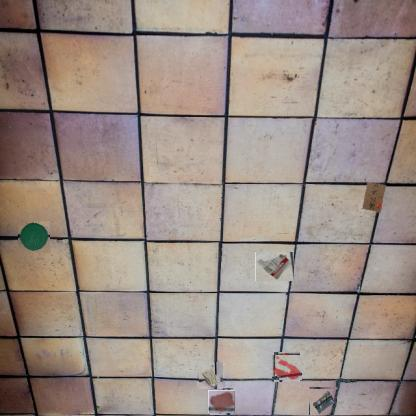dirty: (255, 251, 294, 281), (18, 221, 50, 253), (309, 388, 337, 416), (362, 182, 386, 212), (198, 362, 224, 388)
liquid: (274, 353, 302, 381), (209, 389, 234, 414)
